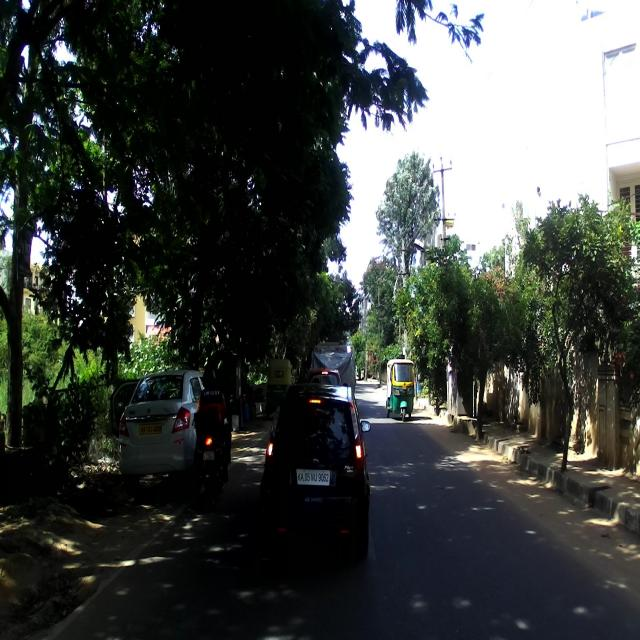car: (257, 381, 371, 554), (109, 368, 211, 491)
